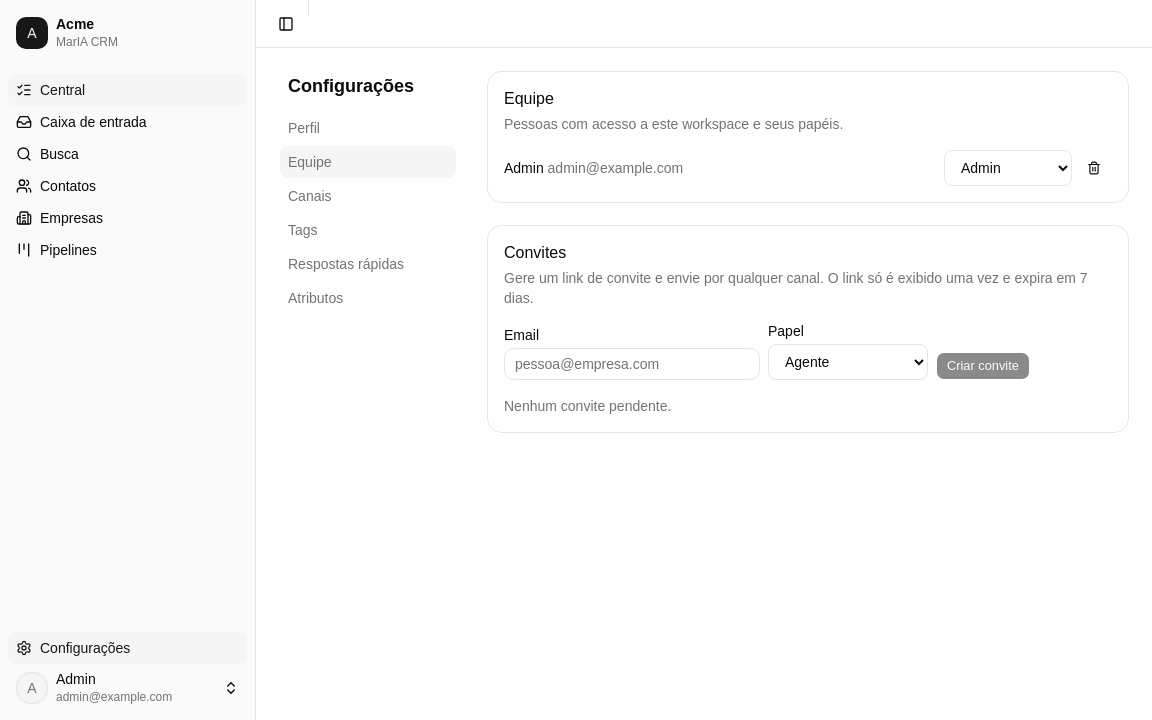
Test: settings members page lists the team and issues invite links
Expected: the 2nd text "admin@example.com" is shown, [56,690,172,704]
Type "novo@example.com" into the field labelled "Email".
click(632, 364); type("novo@example.com")  # box [504,348,760,380]
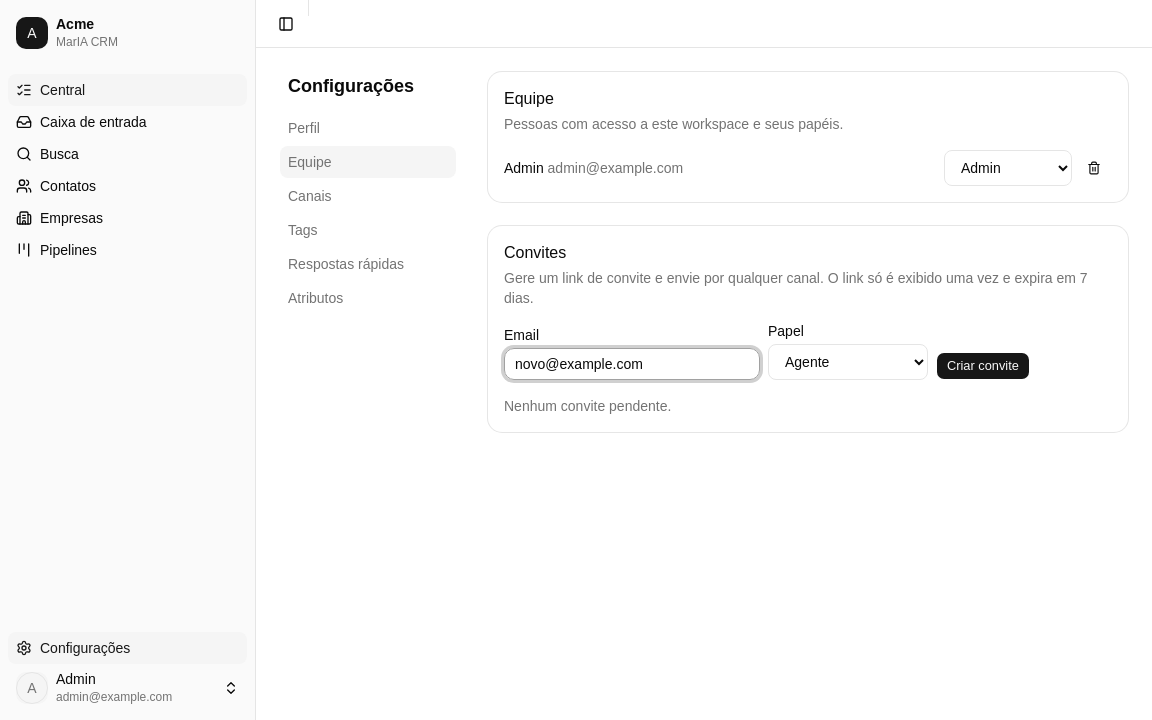
Click the button "Criar convite".
click(983, 366)  # box [936,352,1030,380]
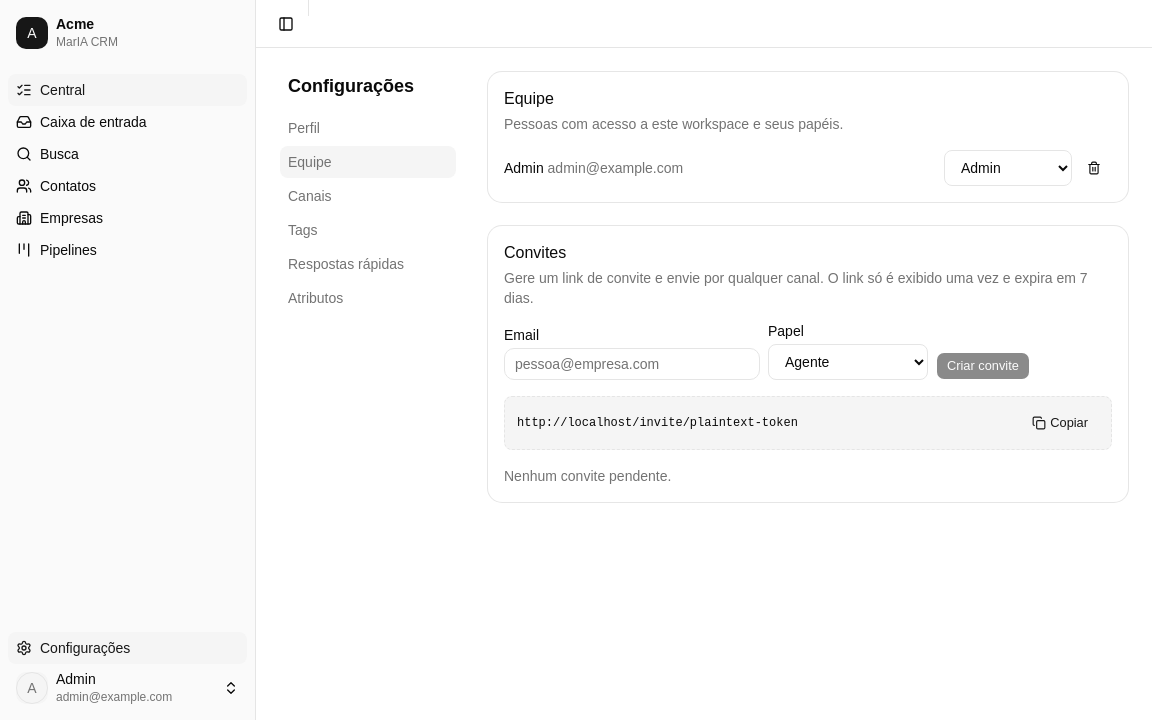
Expected: the text "http://localhost/invite/plaintext-token" is shown, [517,416,798,430]
